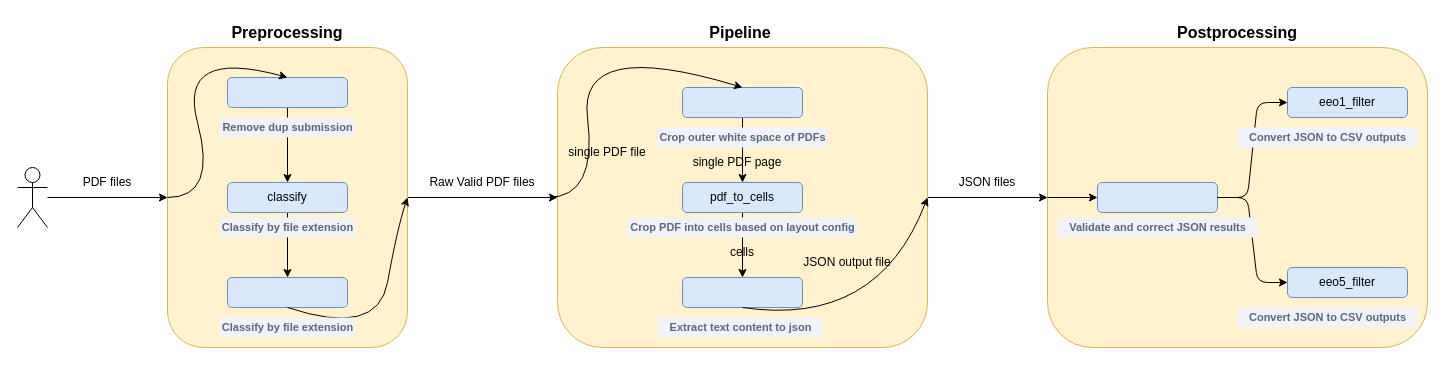
Image size: 1445x365. Some labels were removed from this diagram. The centre of each missing label's shape, as x and y in pixels:
cells_to_contents: (x=742, y=292)
Client: (x=32, y=197)
deduplicate: (x=287, y=92)
json_validator: (x=1157, y=197)
process_pdf: (x=287, y=292)
split_pages: (x=742, y=102)
